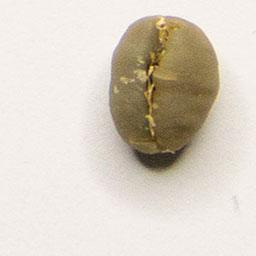peaberry: (106, 11, 221, 160)
